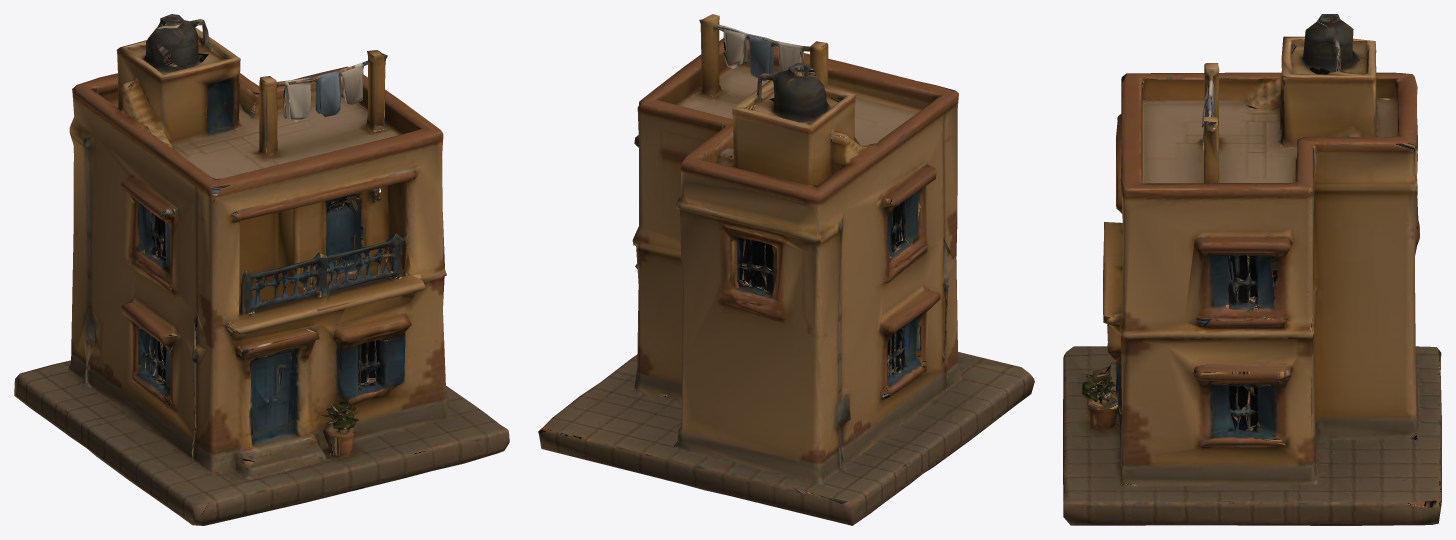
File: home.glb
3 views of the same model, side by side, from view 1: azimuth 30°, elevation 25°; view 2: azimuth 150°, elevation 25°; view 3: azimuth 270°, elevation 25° (orthographic). The views are drawn at different scales.
Parts seen in each view (by area): view 1: tripo_node_d032e024; view 2: tripo_node_d032e024; view 3: tripo_node_d032e024.
Boxes of the visible parts, x1,y1,x2,y2 form: tripo_node_d032e024: (14,14,509,525); tripo_node_d032e024: (538,14,1034,525); tripo_node_d032e024: (1063,14,1441,525).
Size of the model in its own units: 82.33 by 97.78 by 83.01.
Materials: 1 (1 with a texture image).
